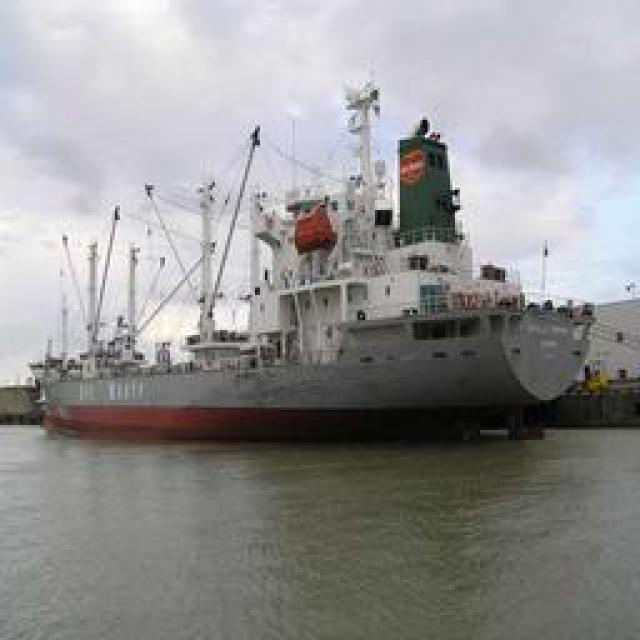Ship: (45, 81, 593, 441)
